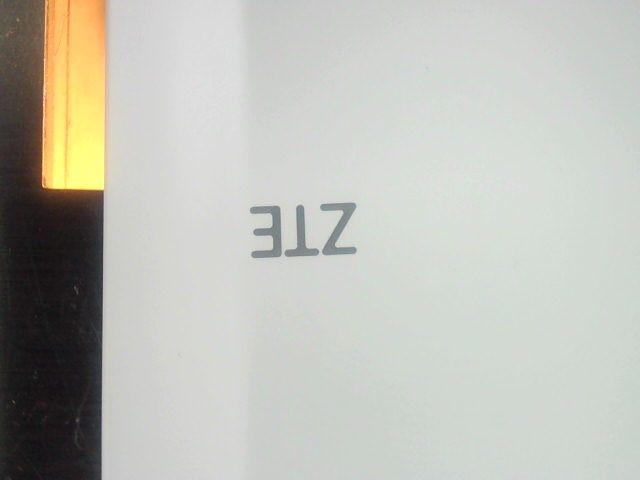AO_ZTESmall: (242, 197, 378, 266)
